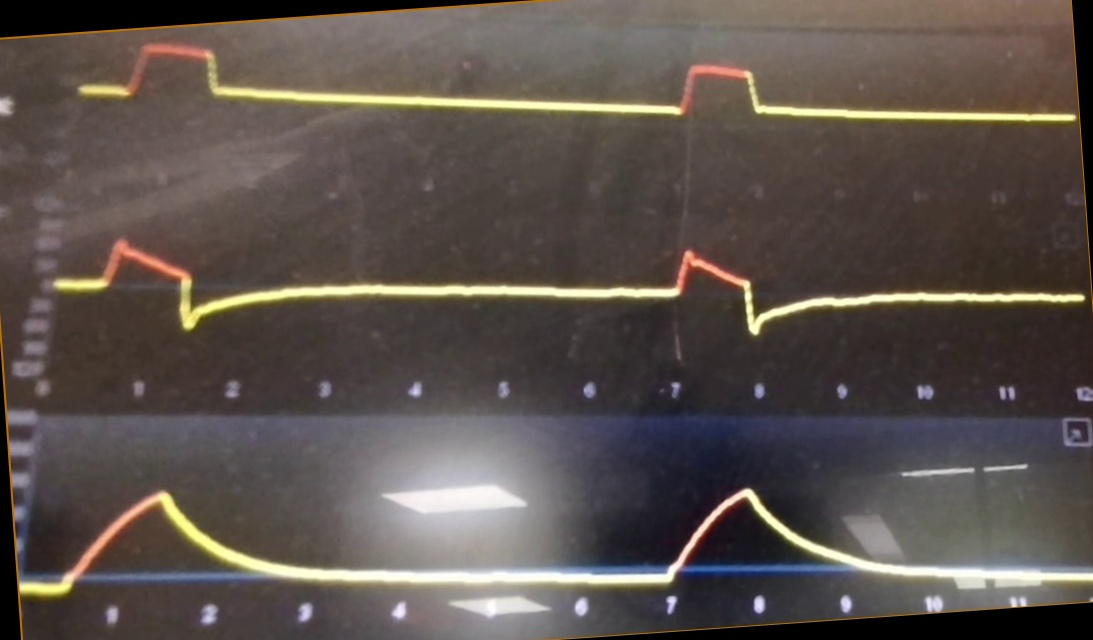Normal Flow: (49, 205, 1084, 355)
Normal Volume: (23, 454, 1093, 606)
